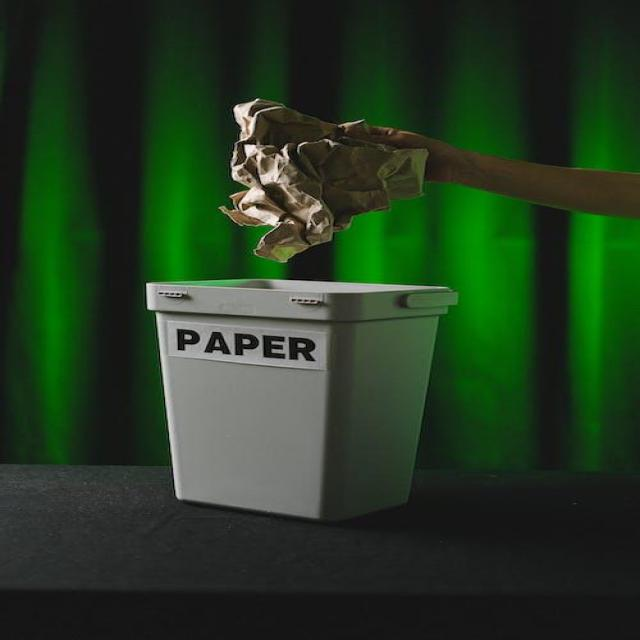paper: (224, 72, 436, 260)
